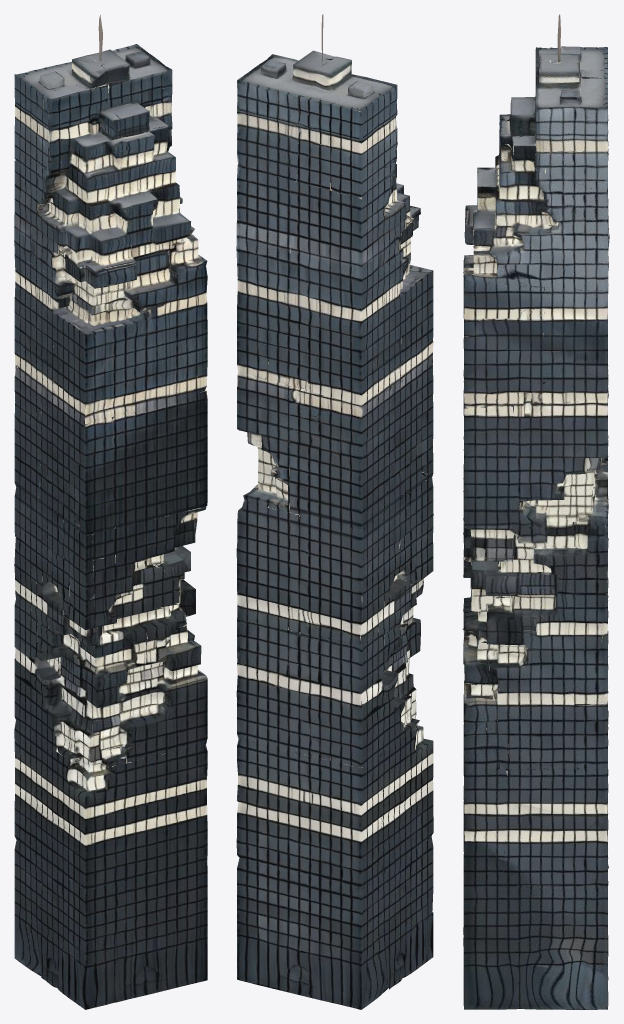
Rendered from earth_tower_pixel.glb.
The picture shows the model from 3 angles, left to right: view 1: azimuth 30°, elevation 25°; view 2: azimuth 150°, elevation 25°; view 3: azimuth 270°, elevation 25°; orthographic projection.
Visible parts, largest first — view 1: earth_tower_pixel; view 2: earth_tower_pixel; view 3: earth_tower_pixel.
Boxes of the visible parts, x1,y1,x2,y2 form: earth_tower_pixel: (14,15,207,1009); earth_tower_pixel: (236,14,433,1009); earth_tower_pixel: (462,14,609,1009).
Bounding box in the file's own units: 37.93 × 275 × 38.11.
1 material, 1 textured.
